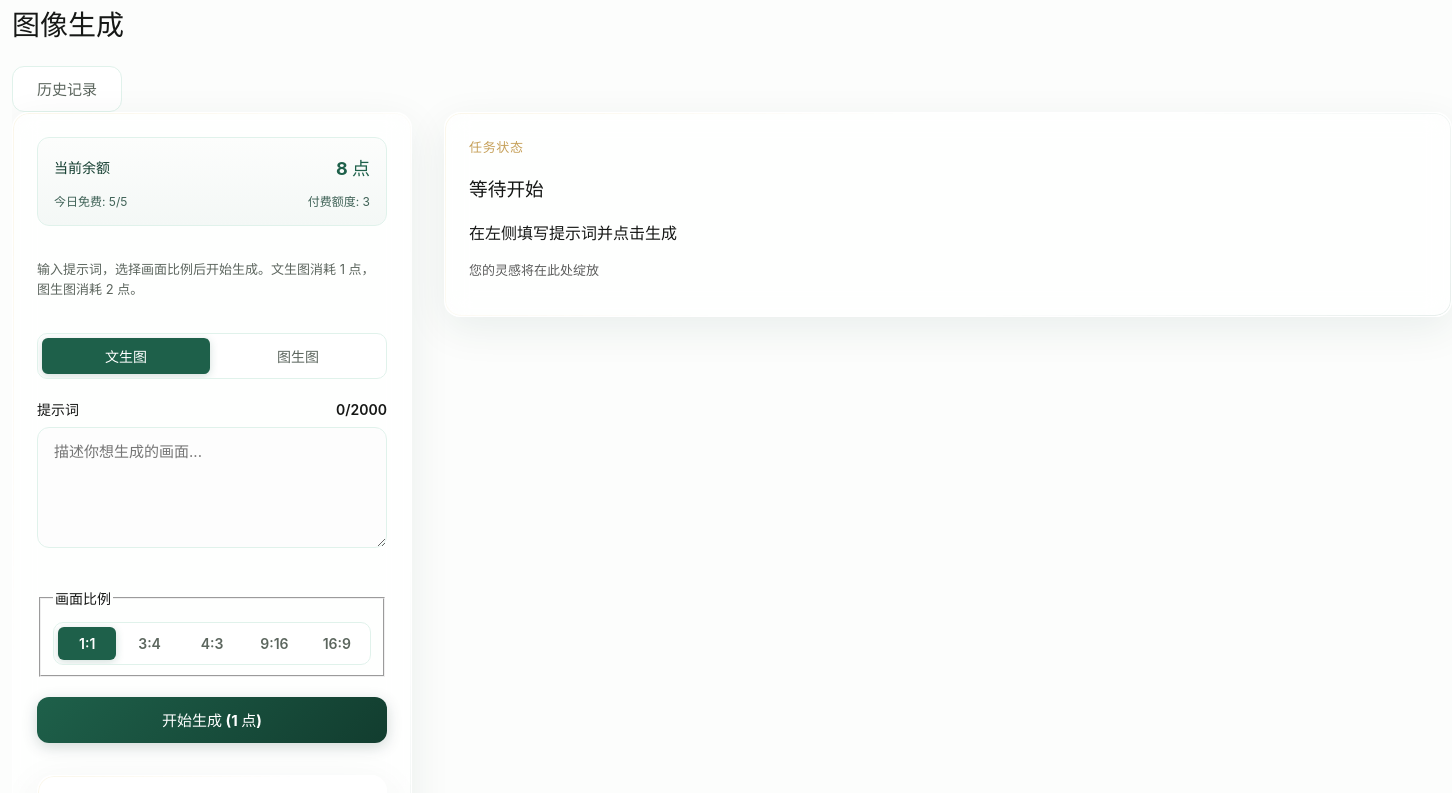
Test: WorkspacePage › shows image-to-image credit cost
The image size is (1452, 793).
Check: the button "开始生成 (1 点)" is shown, box [37,697,387,743]
Click the button "图生图" at (298, 356), box [214,338,382,374]
(page scrolled)
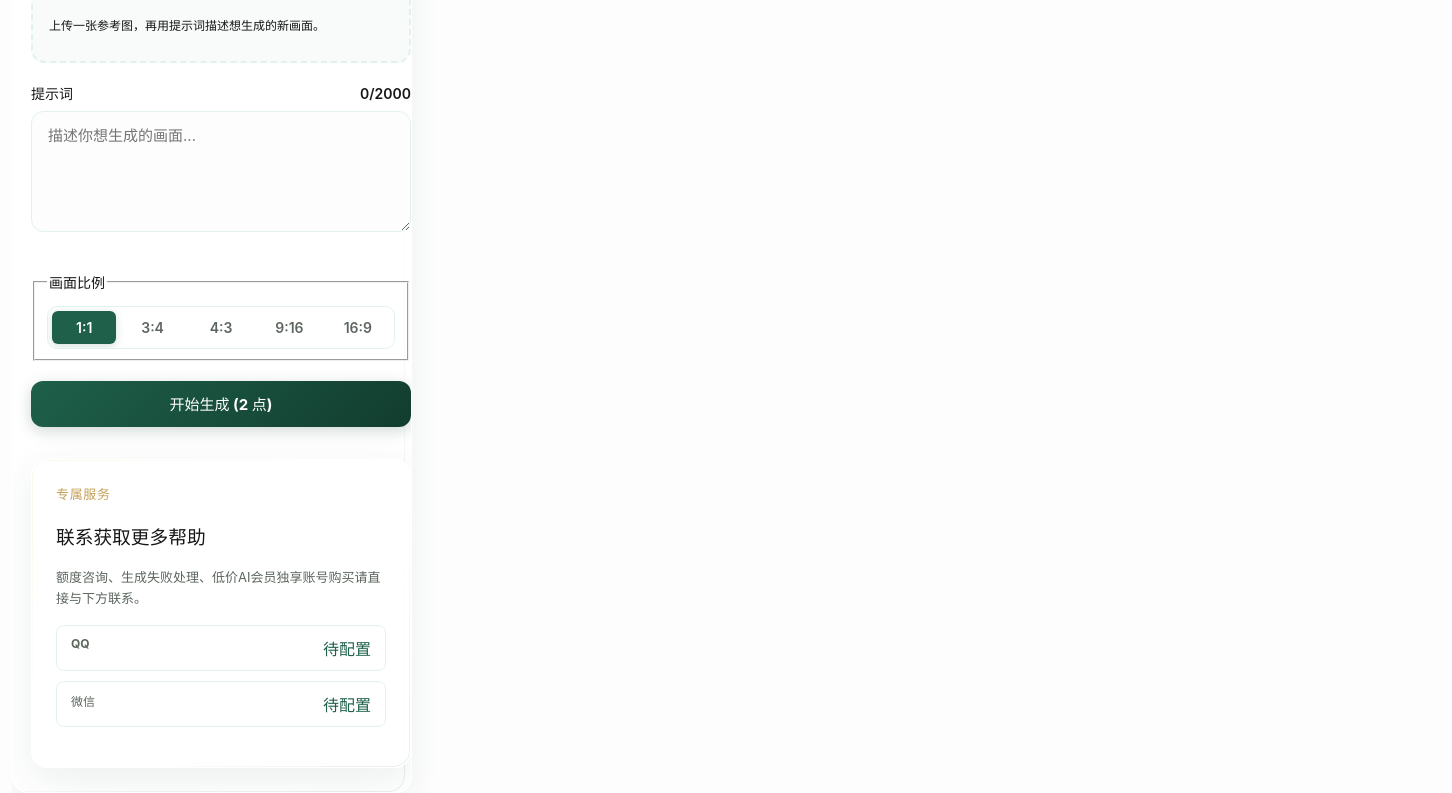
Check: the button "开始生成 (2 点)" is shown, box [31,381,411,427]
